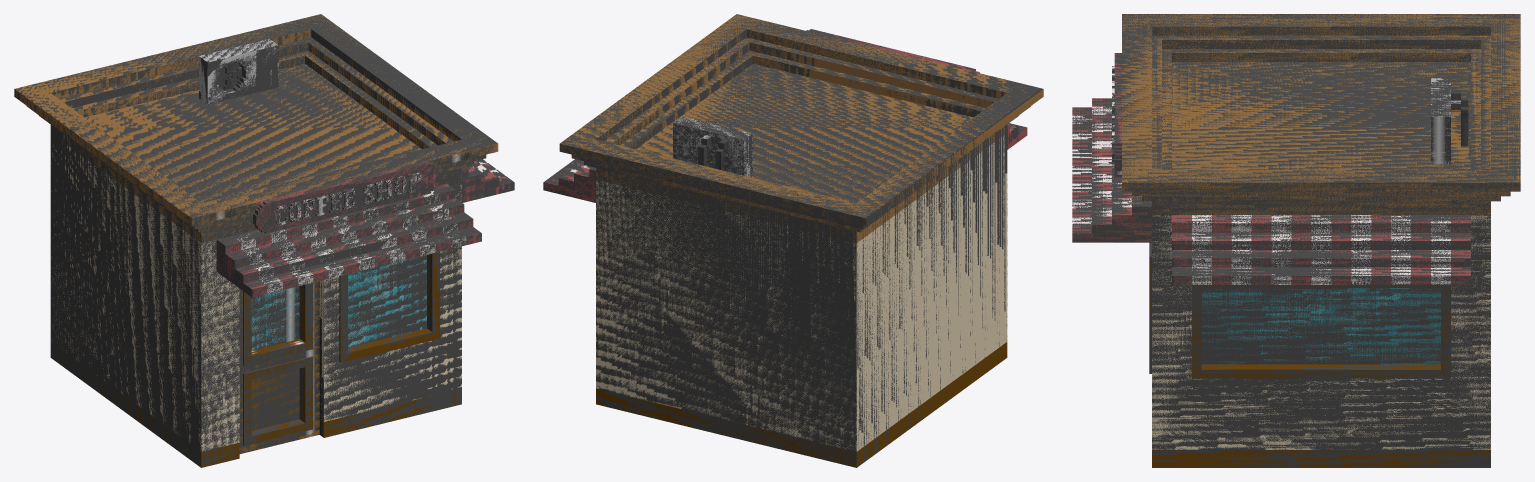
Rendered from coffee shop.fbx.
3 views of the same model, side by side, from view 1: azimuth 30°, elevation 25°; view 2: azimuth 150°, elevation 25°; view 3: azimuth 270°, elevation 25° (orthographic). The views are drawn at different scales.
Visible parts, largest first — view 1: coffee shop_1, coffee shop_1_Backup; view 2: coffee shop_1, coffee shop_1_Backup; view 3: coffee shop_1, coffee shop_1_Backup.
Part boxes in pixels (x1,y1,x2,y2): coffee shop_1: (14,14,514,467); coffee shop_1_Backup: (14,14,514,467); coffee shop_1: (543,14,1043,467); coffee shop_1_Backup: (543,14,1043,467); coffee shop_1: (1072,14,1520,467); coffee shop_1_Backup: (1072,14,1520,467).
Bounding box in the file's own units: 1800 × 1410 × 1800.
